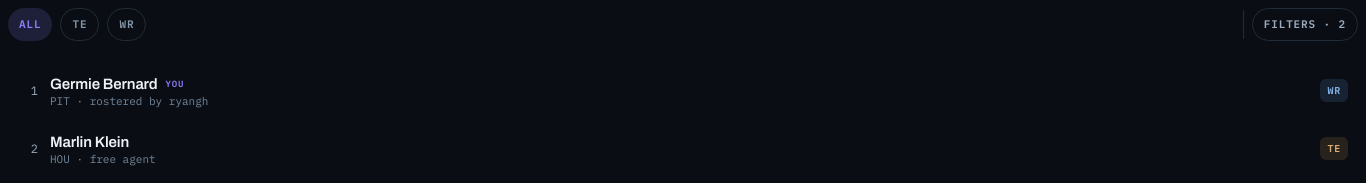
BestAvailable › with eligibleSlots › narrows to a single slot on chip click, and ALL clears the narrowing
The image size is (1366, 183).
Expected: the text "Marlin Klein" is shown, x1=50 y1=132 x2=129 y2=152
Expected: the text "Germie Bernard" is shown, x1=50 y1=74 x2=158 y2=94
Click the button "TE": (80, 24) x1=60 y1=8 x2=100 y2=40
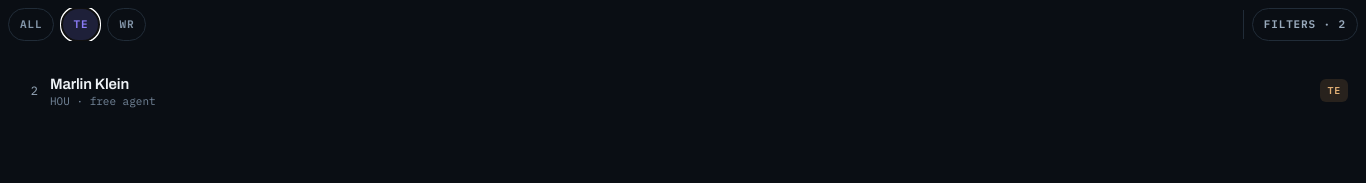
Expected: the text "Marlin Klein" is shown, x1=50 y1=74 x2=129 y2=94
Expected: the text "Germie Bernard" is gone
Click the button "ALL": (31, 24) x1=8 y1=8 x2=54 y2=40
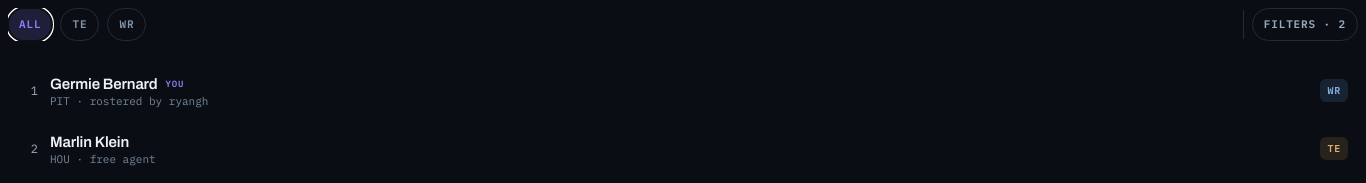
Expected: the text "Germie Bernard" is shown, x1=50 y1=74 x2=158 y2=94
